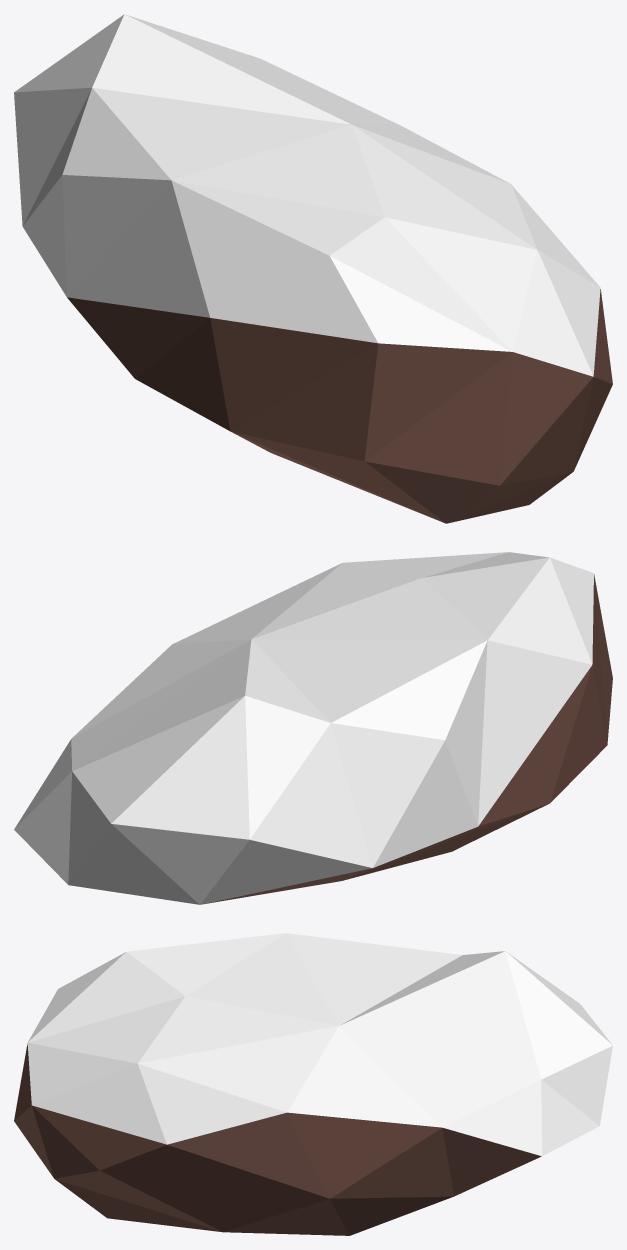
The model's file is snow_stone_010.fbx.
3 renders of one model, top to bottom at view 1: azimuth 30°, elevation 25°; view 2: azimuth 150°, elevation 25°; view 3: azimuth 270°, elevation 25°, orthographic. The views are drawn at different scales.
Visible parts, largest first — view 1: snow_stone_010; view 2: snow_stone_010; view 3: snow_stone_010.
Part boxes in pixels (box(x1,y1,x2,y2)): snow_stone_010: box(14, 14, 612, 523); snow_stone_010: box(14, 552, 612, 904); snow_stone_010: box(14, 933, 612, 1235).
Bounding box in the file's own units: 272 × 479 × 213.
